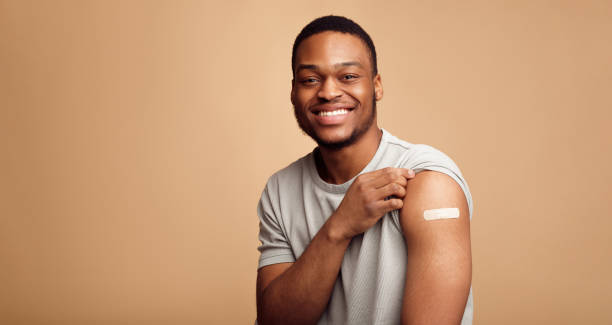without mask: (282, 26, 381, 147)
